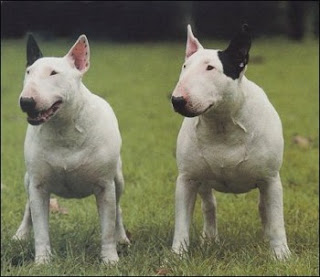bull_terrier: (169, 23, 291, 260), (11, 32, 129, 264)
